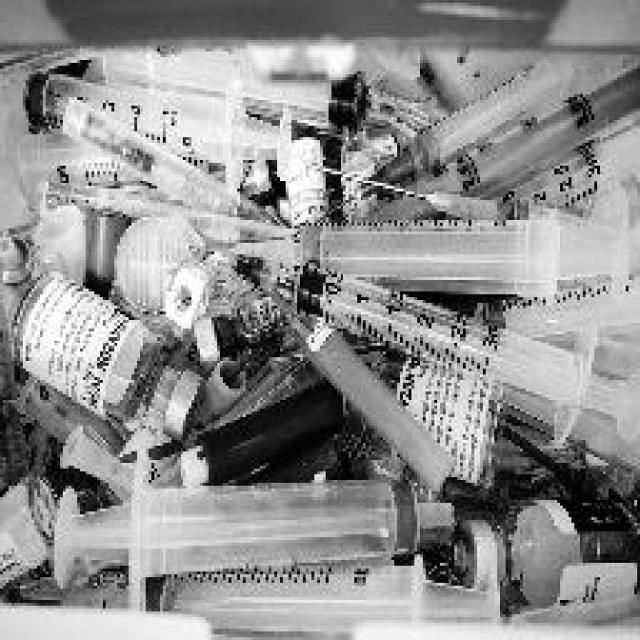syringe: (21, 44, 624, 592)
